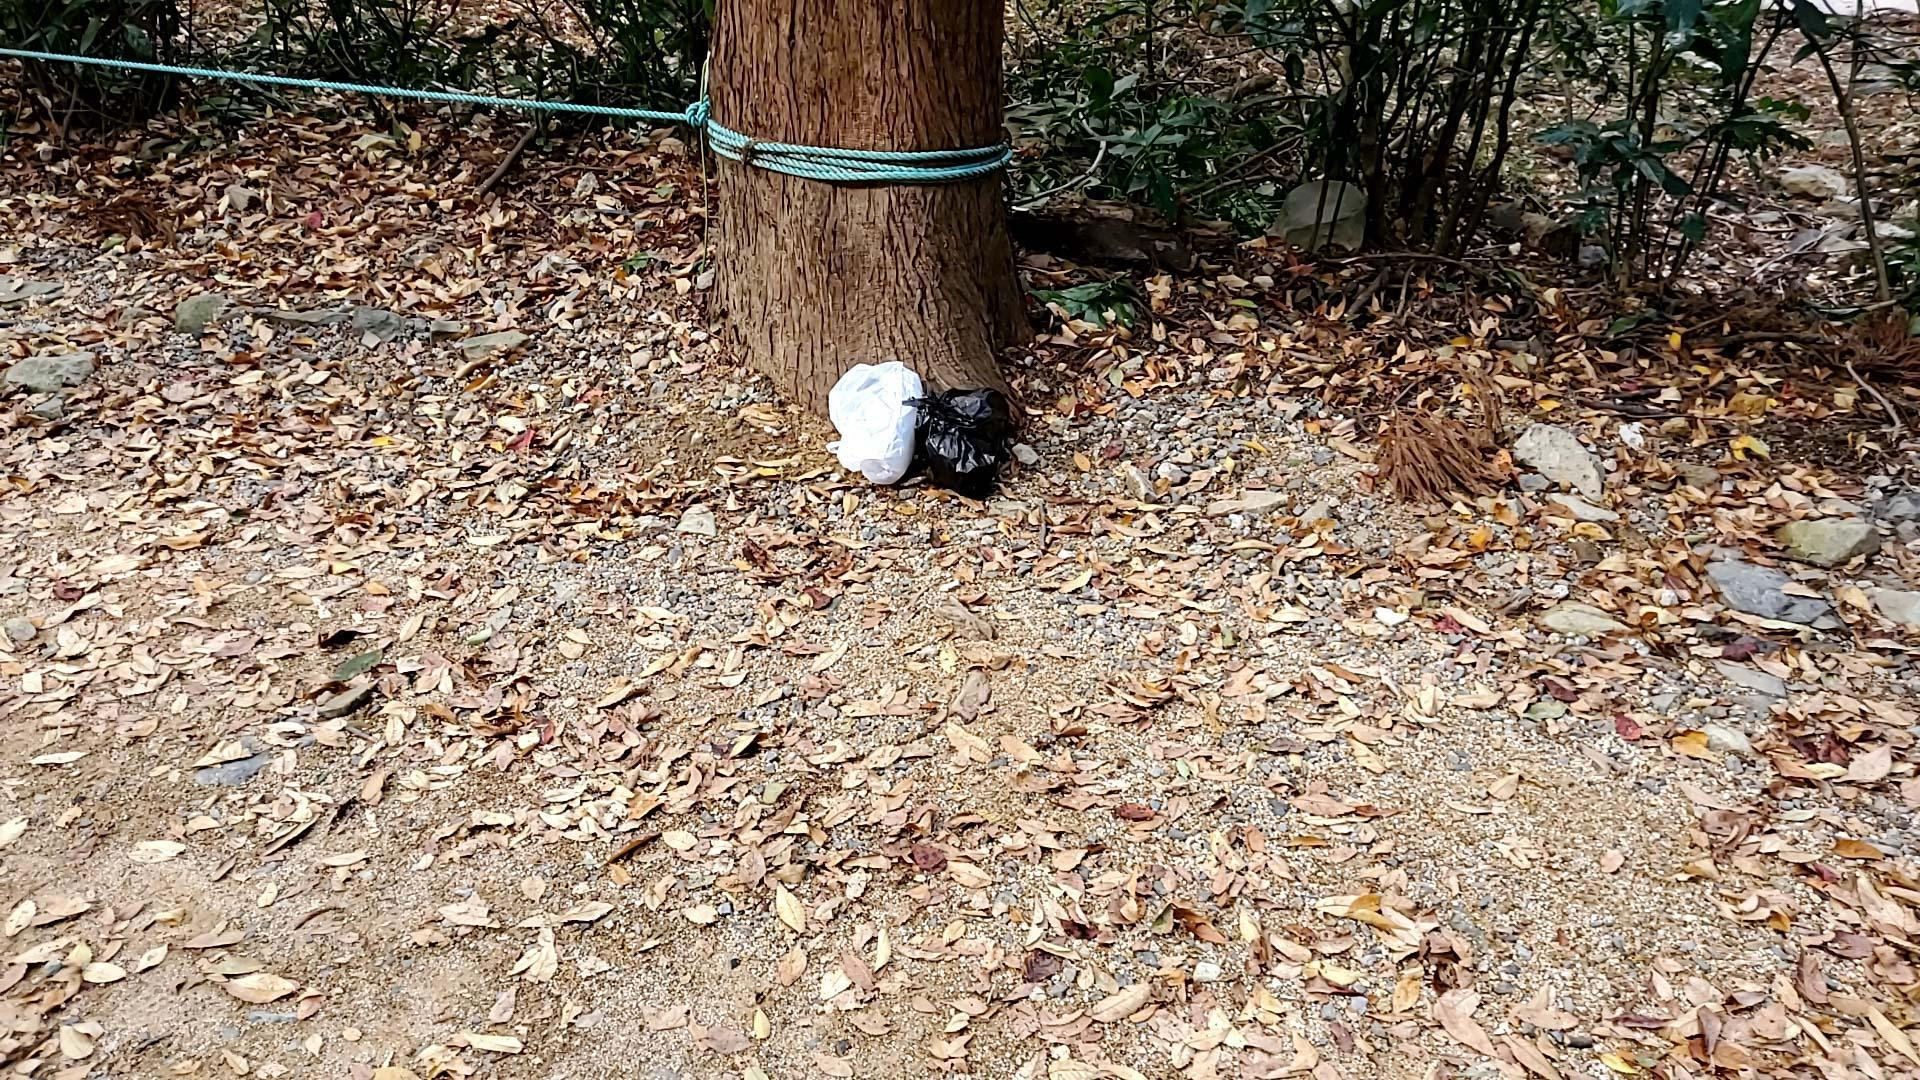black_bag: (895, 382, 1011, 501)
white_bag: (816, 357, 923, 492)
